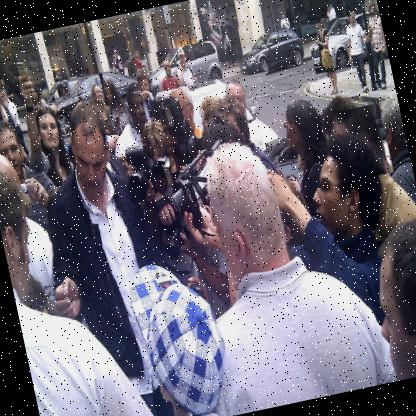Car: (155, 70, 282, 174), (262, 103, 394, 198), (48, 65, 146, 139), (306, 10, 388, 75), (236, 14, 318, 76), (144, 40, 224, 98), (40, 69, 84, 105), (53, 66, 78, 80), (375, 7, 380, 20)
